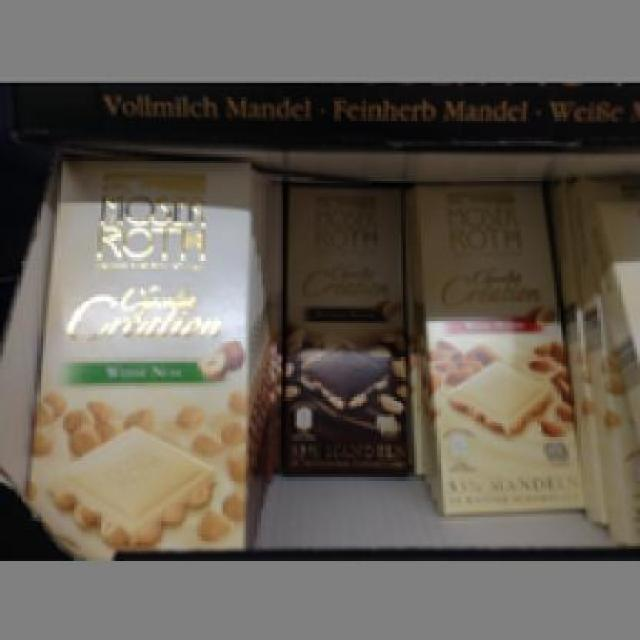Chocolate: (28, 155, 255, 554), (411, 177, 584, 512), (272, 177, 412, 474)
